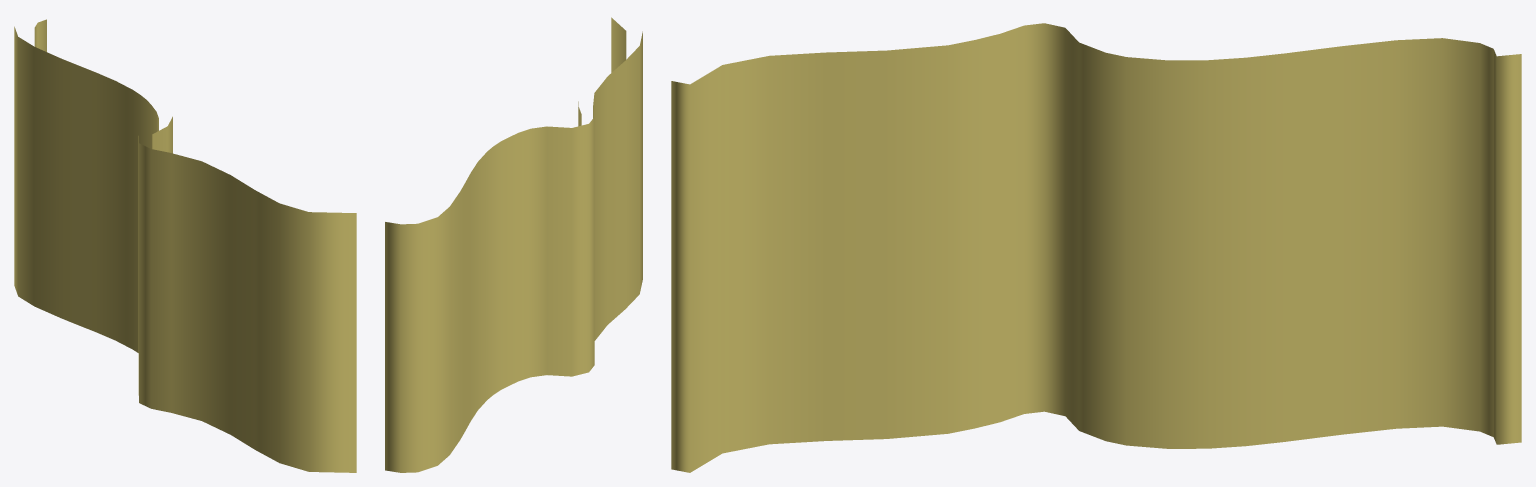
File: lateral-fasciculus-proprius.glb
3 renders of one model, left to right at view 1: azimuth 30°, elevation 25°; view 2: azimuth 150°, elevation 25°; view 3: azimuth 270°, elevation 25°, orthographic. The views are drawn at different scales.
Parts seen in each view (by area): view 1: Lateral fasciculus proprius; view 2: Lateral fasciculus proprius; view 3: Lateral fasciculus proprius.
Part boxes in pixels (x1,y1,x2,y2): Lateral fasciculus proprius: (14,19,356,472); Lateral fasciculus proprius: (385,17,642,472); Lateral fasciculus proprius: (671,23,1521,472).
Bounding box in the file's own units: 0.00194 × 0.005 × 0.00992.
